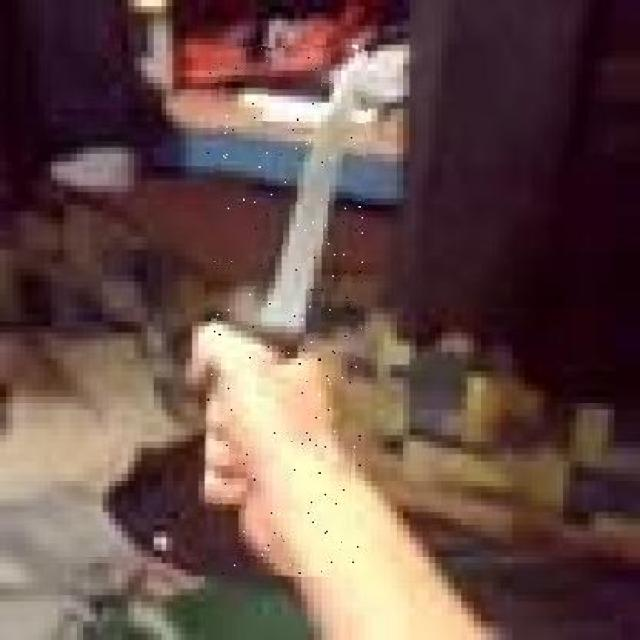knife: (206, 46, 365, 577)
